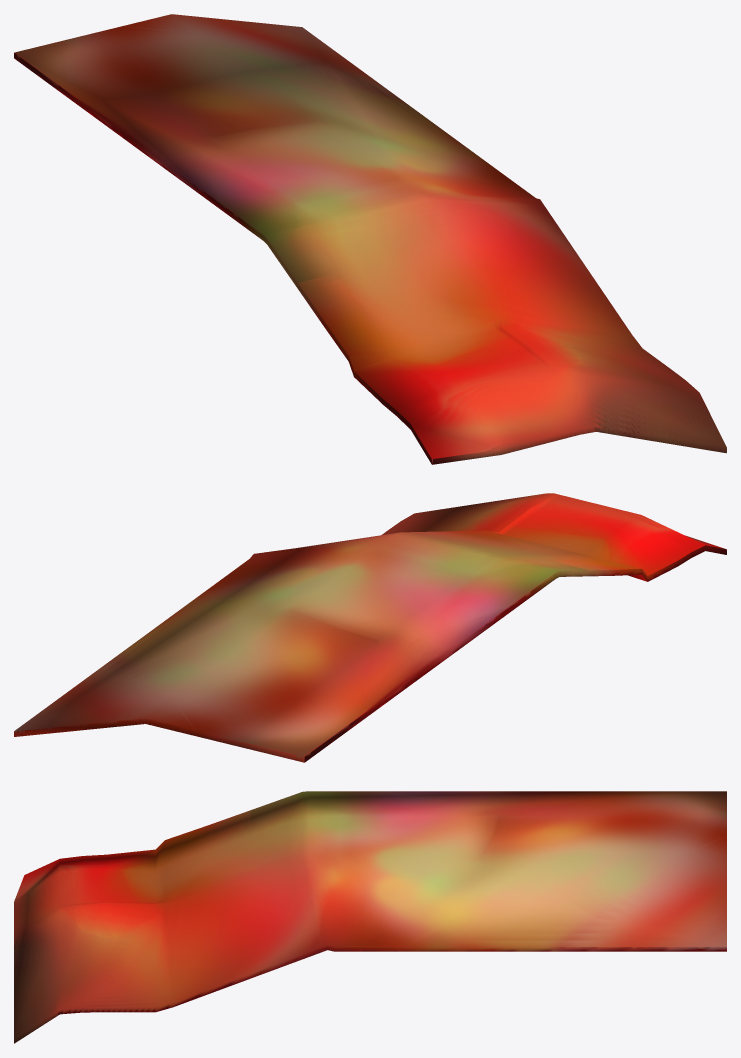
File: akinoyama.glb
The picture shows the model from 3 angles, top to bottom: view 1: azimuth 30°, elevation 25°; view 2: azimuth 150°, elevation 25°; view 3: azimuth 270°, elevation 25°; orthographic projection. The views are drawn at different scales.
Parts seen in each view (by area): view 1: 円柱.033; view 2: 円柱.033; view 3: 円柱.033.
Boxes of the visible parts, <box> form: 円柱.033: <box>14,14,726,464</box>; 円柱.033: <box>14,493,726,762</box>; 円柱.033: <box>14,791,726,1043</box>.
Size of the model in its own units: 61.24 by 32.48 by 156.
Materials: 1 (1 with a texture image).
